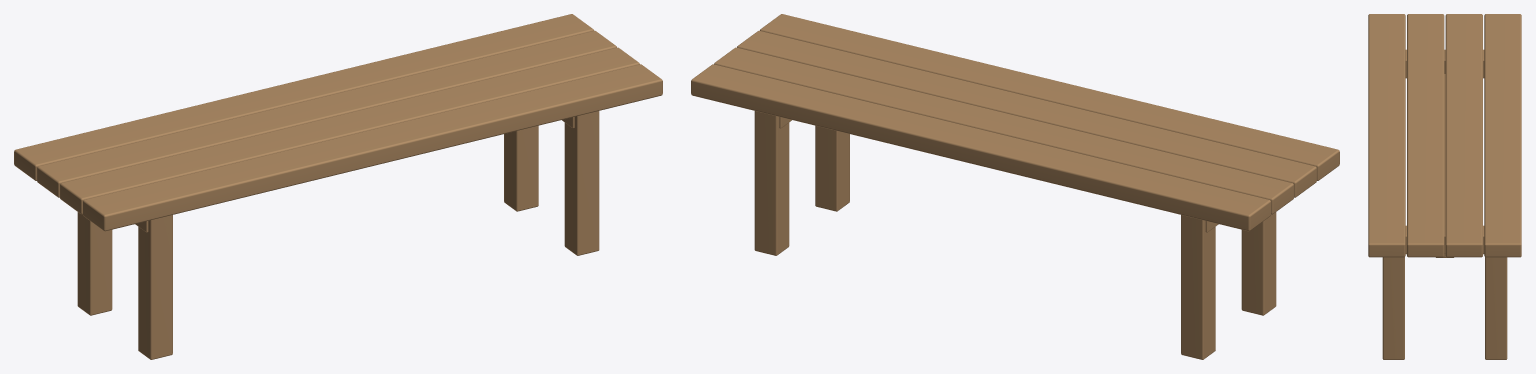
3 views of the same model, side by side, from view 1: azimuth 30°, elevation 25°; view 2: azimuth 150°, elevation 25°; view 3: azimuth 270°, elevation 25° (orthographic). The views are drawn at different scales.
Visible parts, largest first — view 1: Seat_slat, Seat_slat.001, Seat_slat.003, Seat_slat.002, Leg.002, Leg, Leg.001, Leg.003; view 2: Seat_slat.003, Seat_slat.002, Seat_slat, Seat_slat.001, Leg.003, Leg.001, Leg, Leg.002; view 3: Seat_slat, Seat_slat.003, Seat_slat.001, Seat_slat.002, Leg.002, Leg.003, Longitudinal_stretcher, Underseat_bearer.001, Underseat_bearer.
Boxes of the visible parts, bbox=[...] form: Seat_slat: bbox=[83, 64, 662, 231]; Seat_slat.001: bbox=[60, 47, 639, 214]; Seat_slat.003: bbox=[14, 14, 593, 180]; Seat_slat.002: bbox=[37, 30, 616, 197]; Leg.002: bbox=[564, 111, 599, 255]; Leg: bbox=[138, 215, 172, 359]; Leg.001: bbox=[77, 212, 112, 315]; Leg.003: bbox=[504, 125, 538, 211]; Seat_slat.003: bbox=[691, 64, 1270, 231]; Seat_slat.002: bbox=[714, 47, 1293, 214]; Seat_slat: bbox=[760, 14, 1339, 180]; Seat_slat.001: bbox=[737, 30, 1316, 197]; Leg.003: bbox=[754, 111, 789, 255]; Leg.001: bbox=[1181, 215, 1215, 359]; Leg: bbox=[1241, 212, 1276, 315]; Leg.002: bbox=[815, 125, 849, 211]; Seat_slat: bbox=[1368, 14, 1405, 257]; Seat_slat.003: bbox=[1484, 14, 1521, 257]; Seat_slat.001: bbox=[1407, 14, 1444, 257]; Seat_slat.002: bbox=[1445, 14, 1482, 257]; Leg.002: bbox=[1382, 257, 1404, 359]; Leg.003: bbox=[1485, 257, 1507, 359]; Longitudinal_stretcher: bbox=[1436, 74, 1453, 257]; Underseat_bearer.001: bbox=[1405, 225, 1484, 254]; Underseat_bearer: bbox=[1405, 49, 1484, 78].
Bounding box in the file's own units: 1.6 × 0.45 × 0.45.
